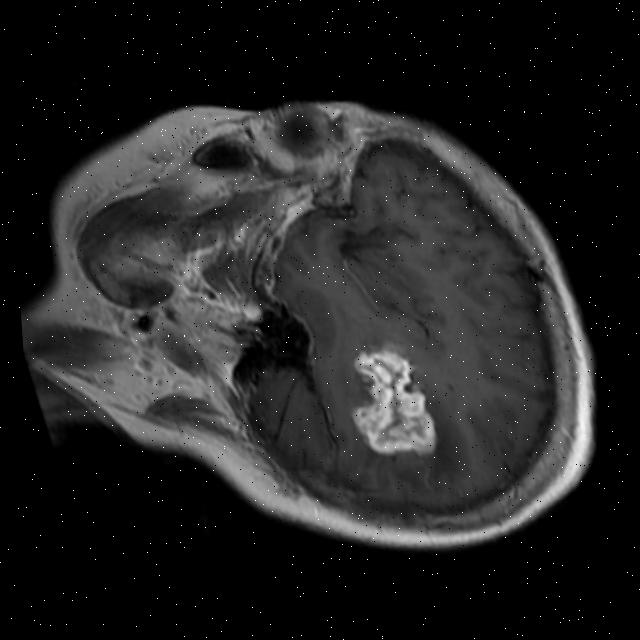Glioma: (333, 334, 448, 472)
